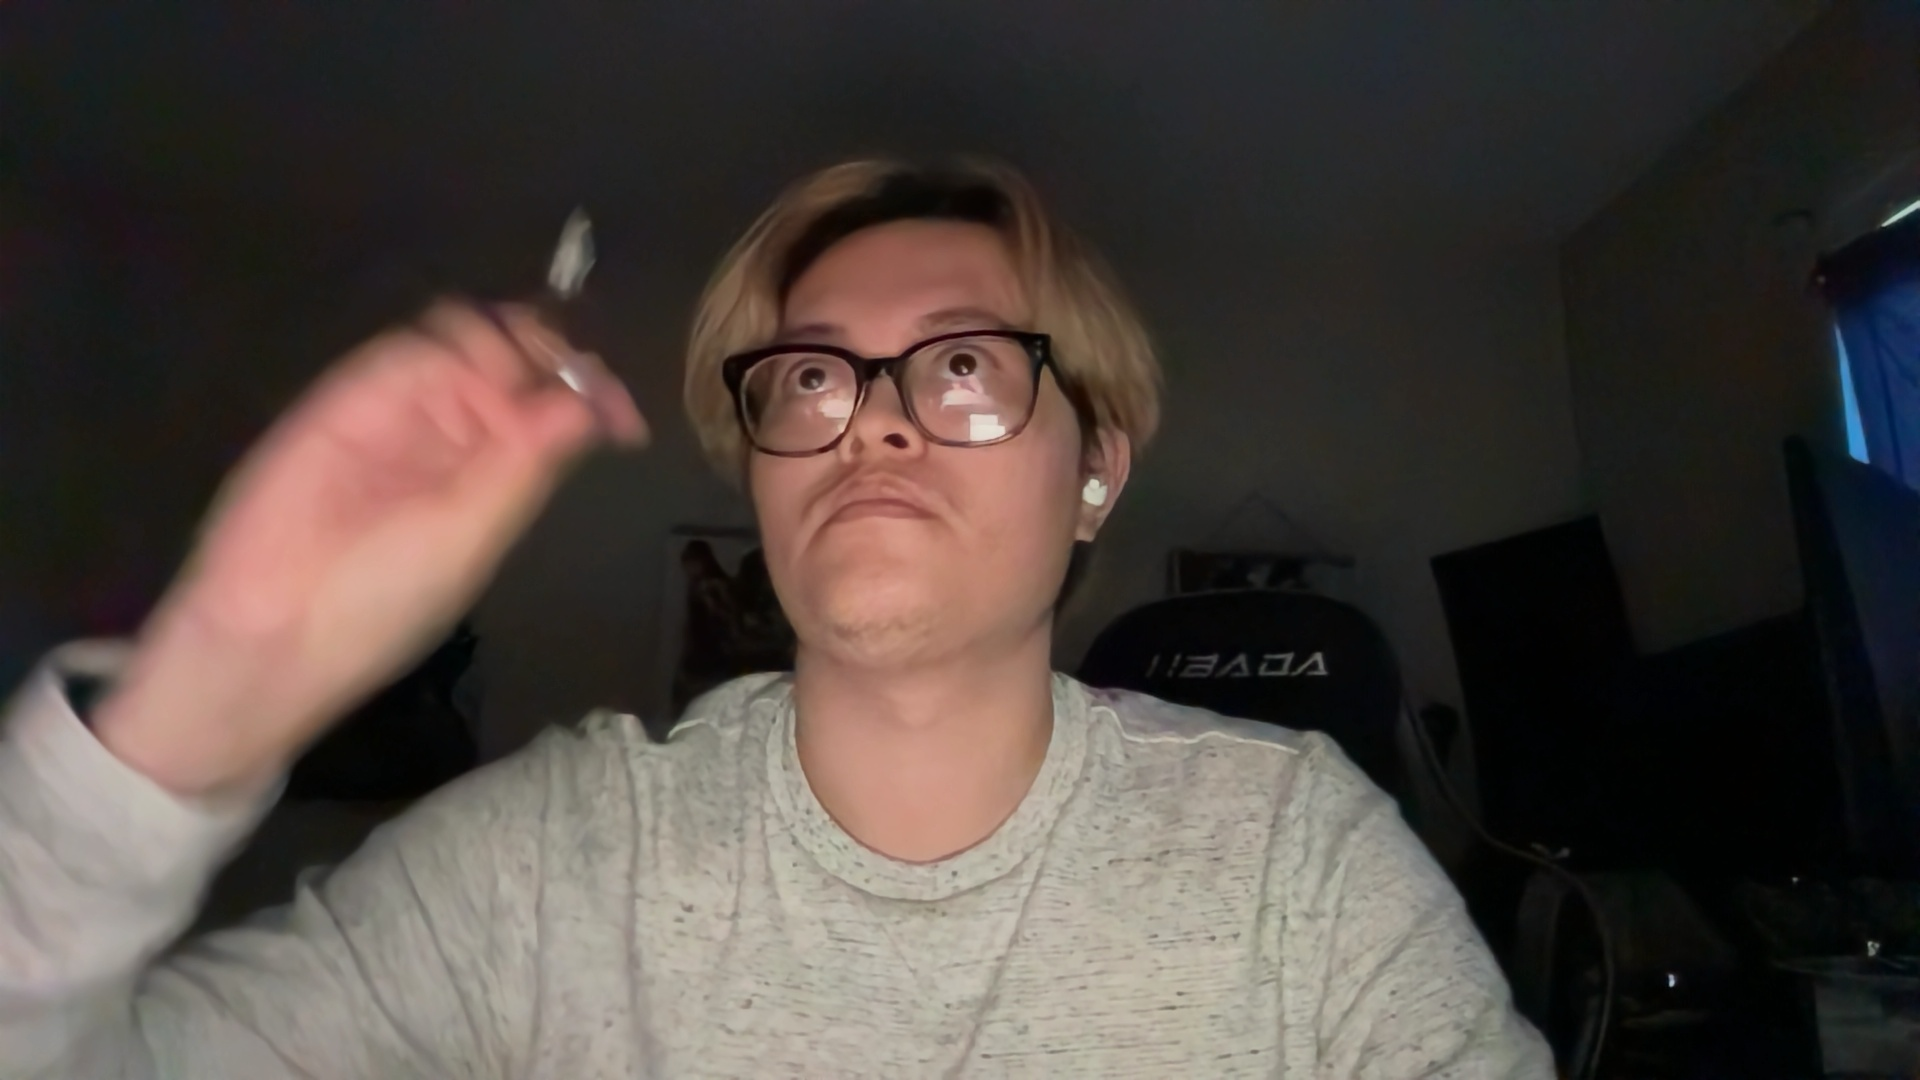pencil: (527, 198, 618, 348)
